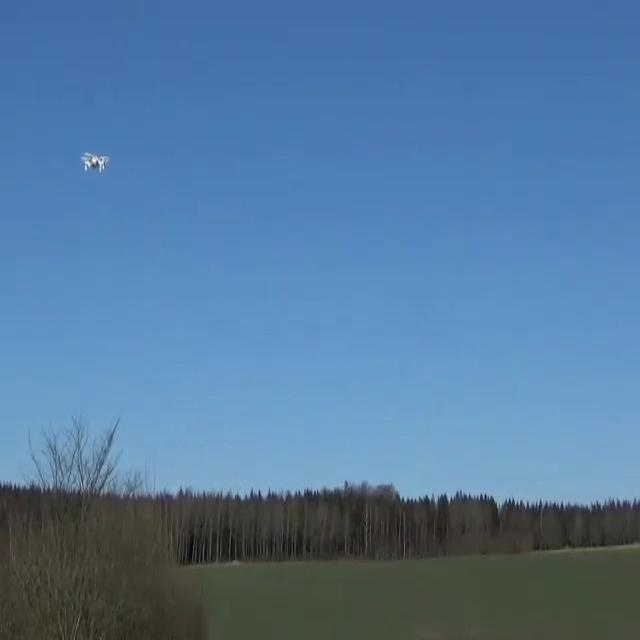drone: (81, 150, 110, 174)
